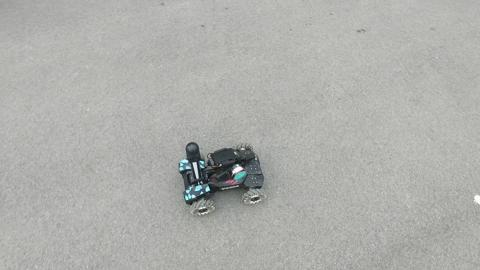chariot: (169, 136, 273, 220)
